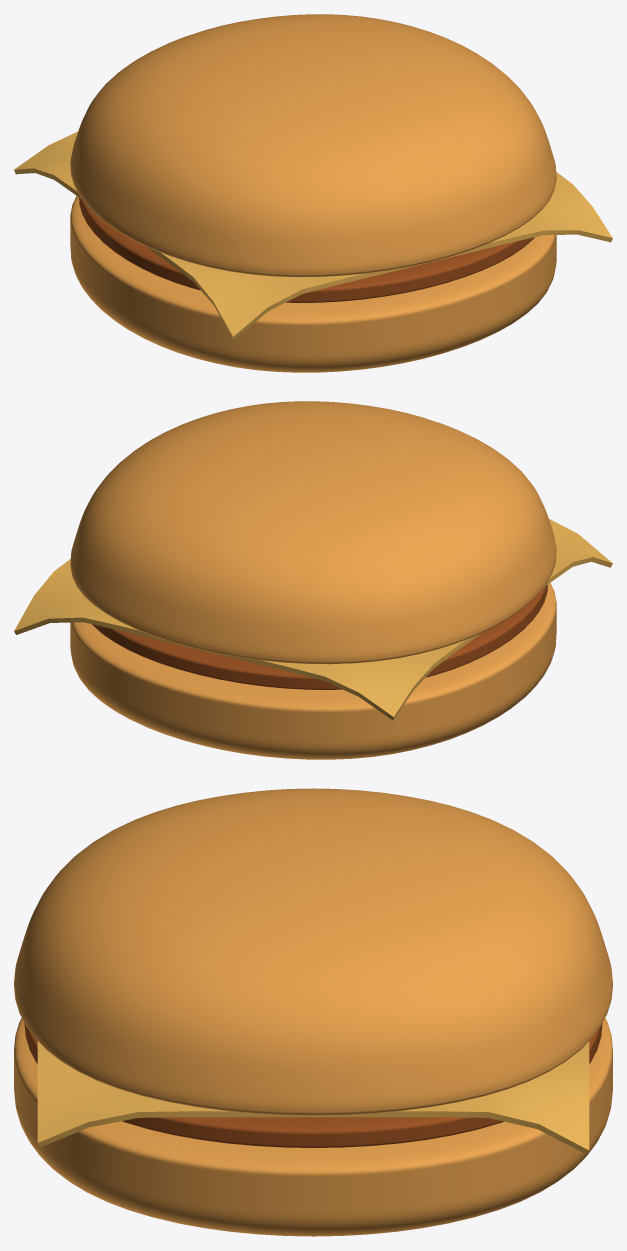
The model's file is hanburger.glb.
3 renders of one model, top to bottom at view 1: azimuth 30°, elevation 25°; view 2: azimuth 150°, elevation 25°; view 3: azimuth 270°, elevation 25°, orthographic. The views are drawn at different scales.
Parts seen in each view (by area): view 1: Cube.002, Cube, Plane, Cube.001; view 2: Cube.002, Cube, Plane, Cube.001; view 3: Cube.002, Cube, Plane, Cube.001.
Part boxes in pixels (x1,y1,x2,y2): Cube.002: (70, 14, 556, 277); Cube: (70, 196, 556, 372); Plane: (14, 131, 612, 339); Cube.001: (79, 198, 534, 302); Cube.002: (70, 401, 556, 664); Cube: (70, 583, 556, 759); Plane: (14, 519, 612, 720); Cube.001: (92, 585, 547, 689); Cube.002: (14, 788, 612, 1115); Cube: (14, 1018, 612, 1236); Plane: (37, 1041, 589, 1154); Cube.001: (24, 1023, 602, 1147).
Bounding box in the file's own units: 1.83 × 0.9895 × 1.83.
